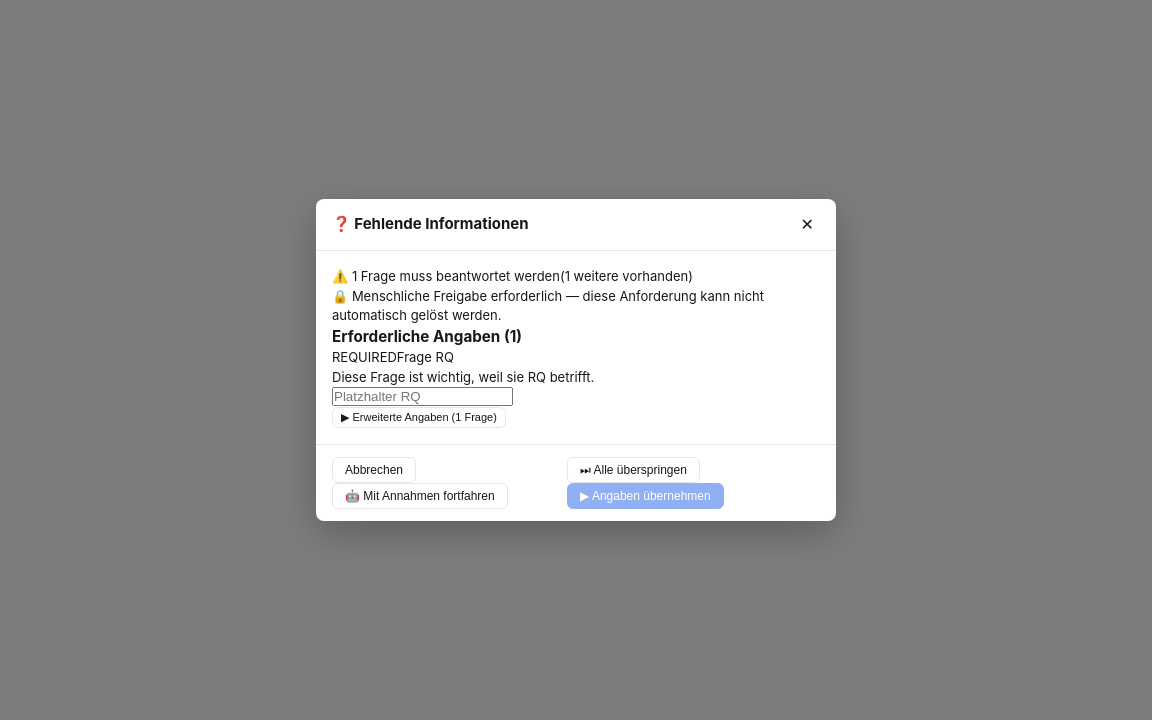
MissingInfoGate › skip behavior › allows skipping RECOMMENDED items
The width and height of the screenshot is (1152, 720).
Open advanced section to see RECOMMENDED
Step 1. Click the button with test id "gate-toggle-advanced" → (419, 417), box [332,407,506,428]
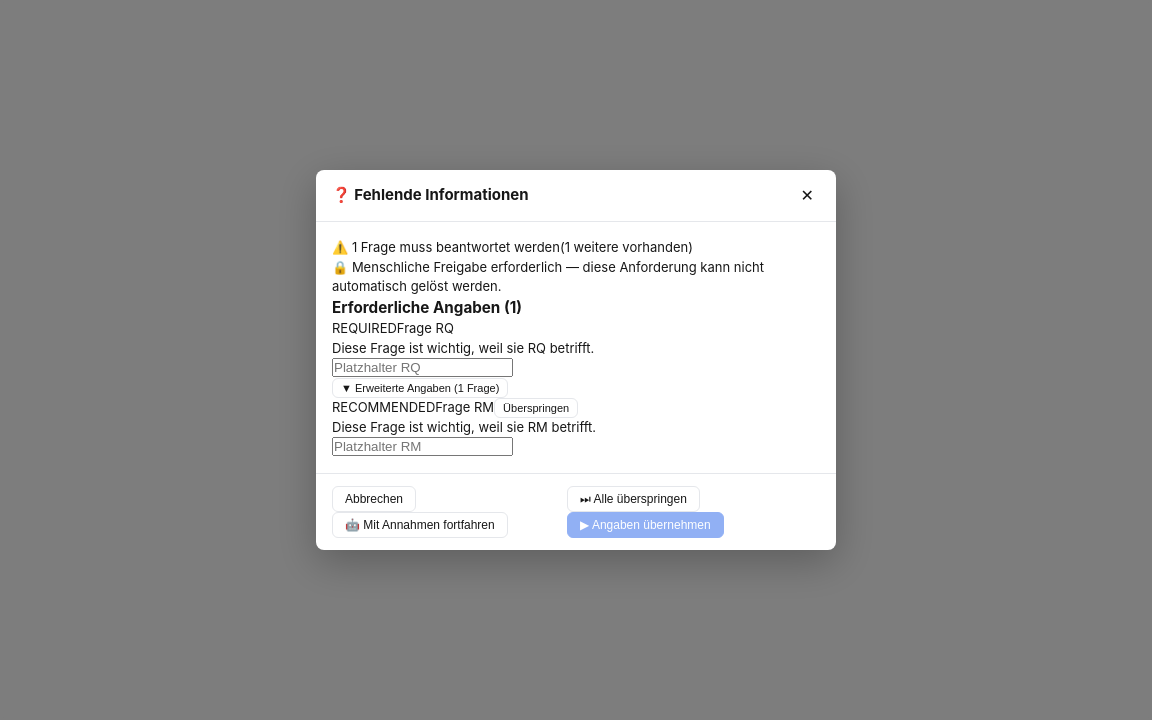
Step 2. Click the button with test id "gate-skip-RM" → (536, 408), box [494,398,578,418]
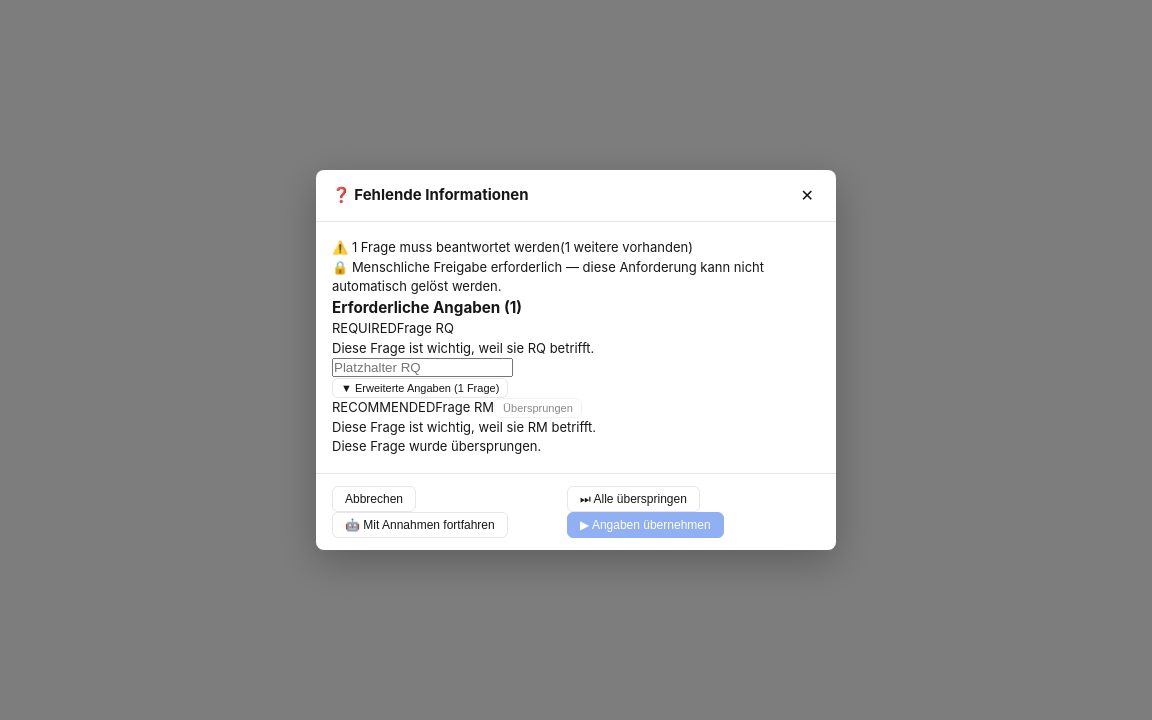
Result: the text "Diese Frage wurde übersprungen." is shown at [332,438,541,454]
